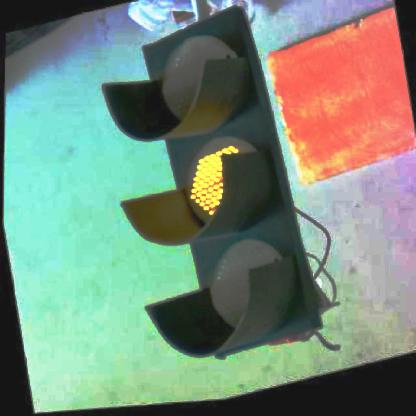Traffic Light -Yellow-: (88, 1, 328, 380)
